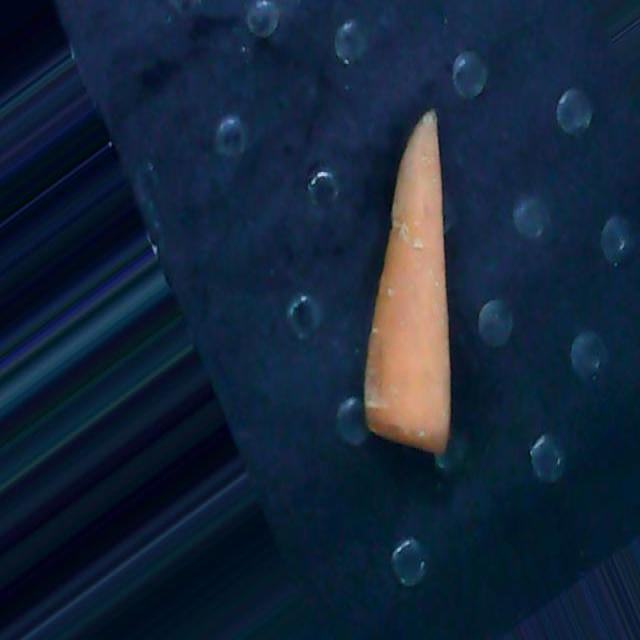-Kitchen waste - carrot-: (362, 106, 452, 455)
